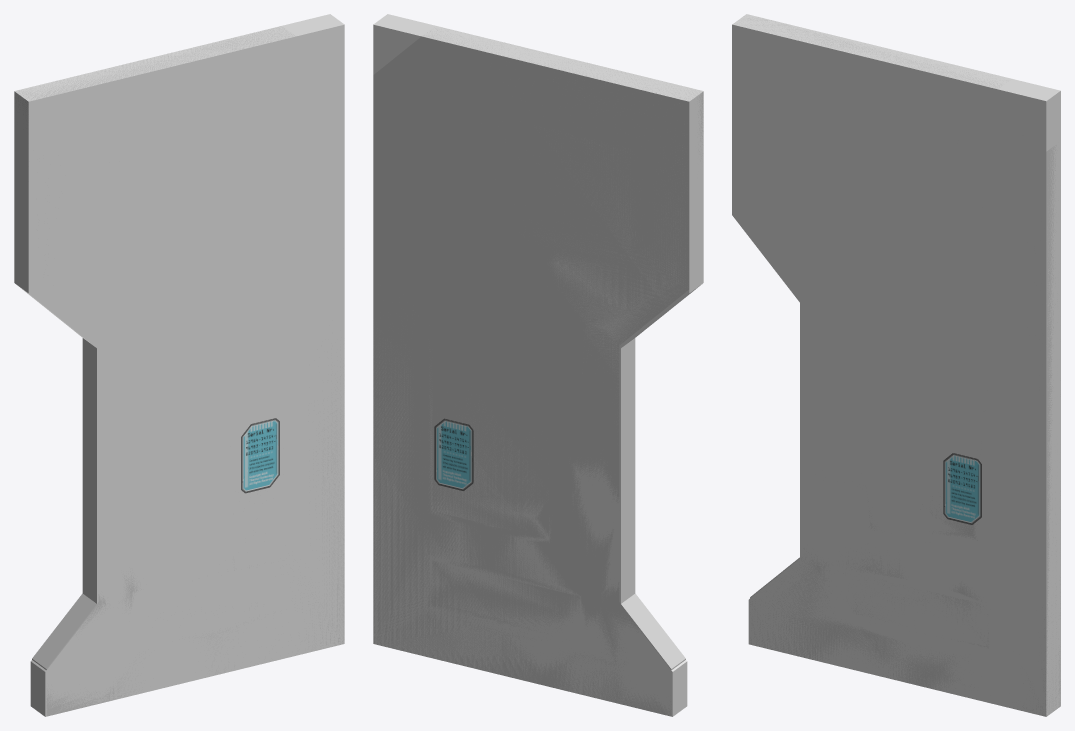
File: wall_01_4x3_door_wing_right.fbx
The picture shows the model from 3 angles, left to right: view 1: azimuth 30°, elevation 25°; view 2: azimuth 150°, elevation 25°; view 3: azimuth 330°, elevation 25°; orthographic projection.
Visible parts, largest first — view 1: Cube.133, Cube.127, Cube.129; view 2: Cube.127, Cube.133, Cube.128, Cube.129; view 3: Cube.133, Cube.127, Cube.129, Cube.128.
Boxes of the visible parts, x1,y1,x2,y2 form: Cube.133: (14,14,344,716); Cube.127: (14,26,344,716); Cube.129: (241,418,279,493); Cube.127: (373,27,703,716); Cube.133: (373,14,703,716); Cube.128: (432,107,649,629); Cube.129: (434,418,473,490); Cube.133: (732,14,1060,716); Cube.127: (734,15,1060,716); Cube.129: (943,453,981,524); Cube.128: (843,496,986,645).
Size of the model in its own units: 126 by 236 by 10.04.
